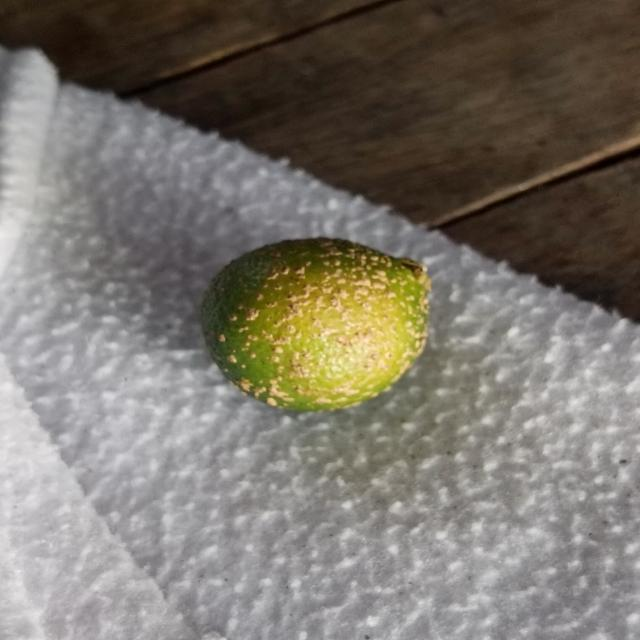scab: (194, 234, 440, 416)
